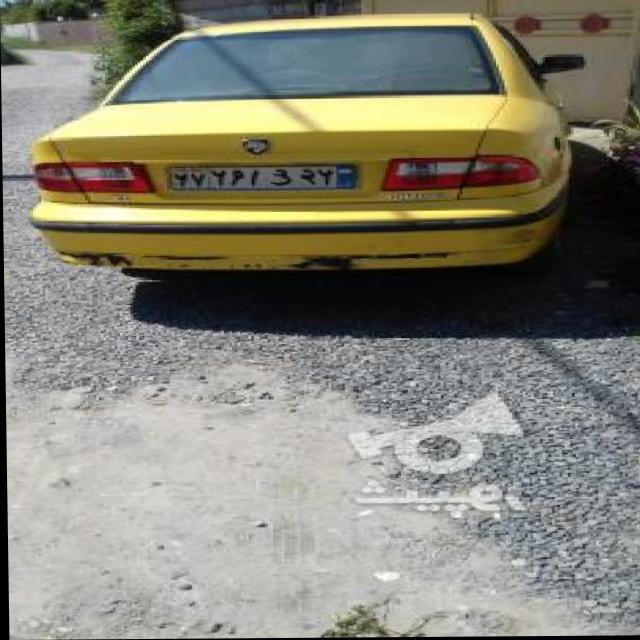licence: (171, 159, 358, 187)
